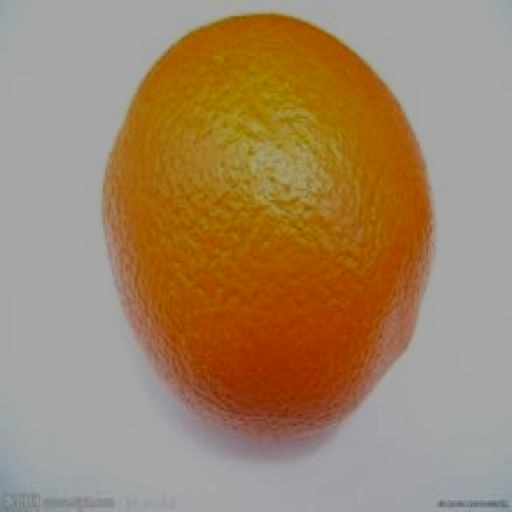fruit: (104, 16, 431, 436)
